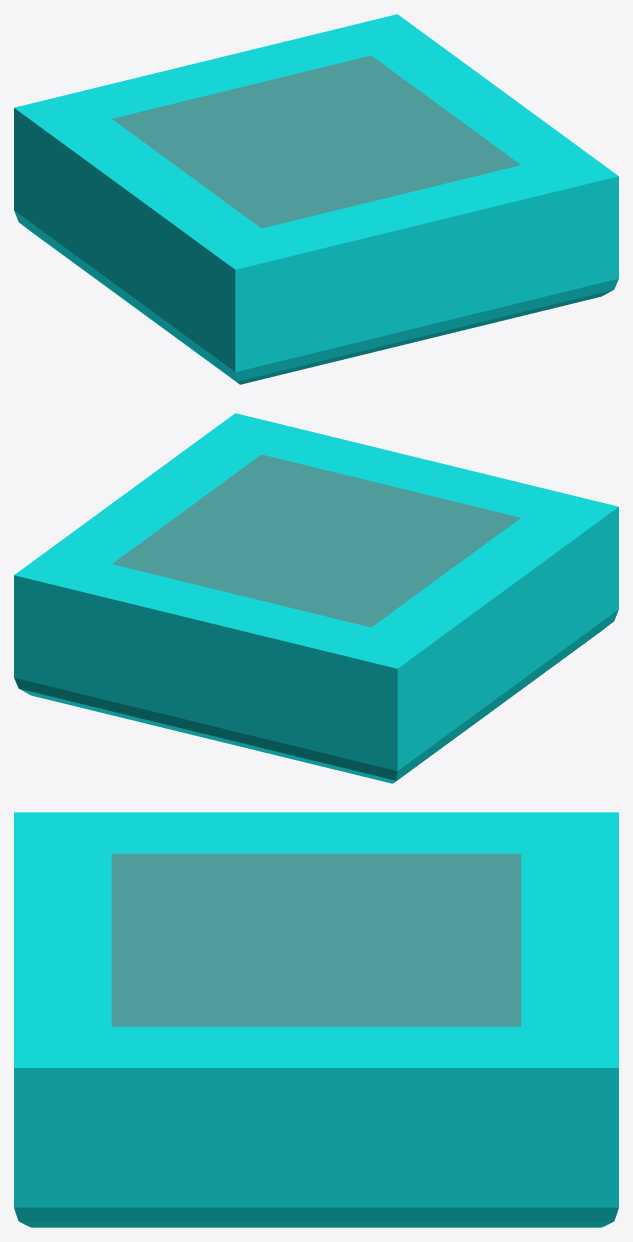
Rendered from Floor 1.fbx.
The picture shows the model from 3 angles, top to bottom: view 1: azimuth 30°, elevation 25°; view 2: azimuth 150°, elevation 25°; view 3: azimuth 270°, elevation 25°; orthographic projection. The views are drawn at different scales.
Visible parts, largest first — view 1: Cube; view 2: Cube; view 3: Cube.
Part boxes in pixels (x1=…): Cube: x1=14, y1=14, x2=618, y2=384; Cube: x1=14, y1=413, x2=618, y2=783; Cube: x1=14, y1=812, x2=618, y2=1227.
Size of the model in its own units: 320 by 100 by 320.
